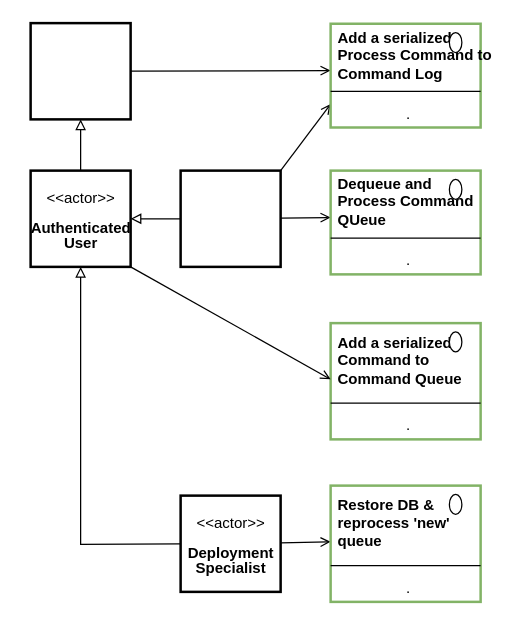
Some shapes in this 513 by 624 pixel diagram are drawn without their labels. The shapes that lost their labels are listed below. From the top down, each one's centre as x and y in pixels, then its label:
(x=80, y=70): <<actor>> Unauthenticated User
(x=230, y=218): <<actor>> System Daemon
